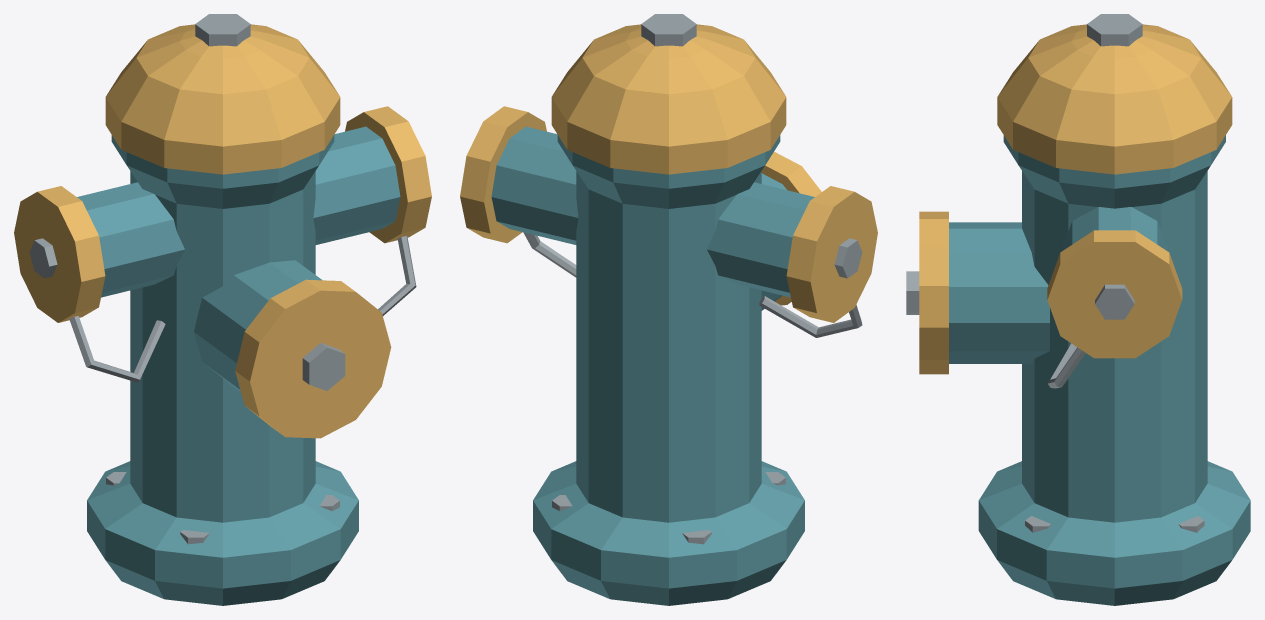
File: fire_hydrant.glb
3 views of the same model, side by side, from view 1: azimuth 30°, elevation 25°; view 2: azimuth 150°, elevation 25°; view 3: azimuth 270°, elevation 25° (orthographic).
Visible parts, largest first — view 1: hydrant_base_and_body, hydrant_faceted_crown, hydrant_front_cap, hydrant_side_cap, hydrant_side_neck.001, hydrant_side_neck, hydrant_front_neck, hydrant_side_cap.001, hydrant_front_cap_nut, hydrant_retaining_chain, hydrant_top_operating_nut, hydrant_retaining_chain.001 (+1 smaller); view 2: hydrant_base_and_body, hydrant_faceted_crown, hydrant_side_cap, hydrant_side_neck.001, hydrant_side_neck, hydrant_side_cap.001, hydrant_top_operating_nut, hydrant_front_cap, hydrant_retaining_chain, hydrant_side_cap_nut, hydrant_retaining_chain.001; view 3: hydrant_base_and_body, hydrant_faceted_crown, hydrant_front_neck, hydrant_side_cap.001, hydrant_front_cap, hydrant_side_neck.001, hydrant_top_operating_nut, hydrant_side_cap_nut.001, hydrant_retaining_chain.001, hydrant_front_cap_nut.
Part boxes in pixels (left/top/right/bottom): hydrant_base_and_body: left=87, top=135, right=358, bottom=605; hydrant_faceted_crown: left=105, top=24, right=340, bottom=174; hydrant_front_cap: left=235, top=279, right=391, bottom=438; hydrant_side_cap: left=14, top=186, right=105, bottom=322; hydrant_side_neck.001: left=313, top=126, right=400, bottom=244; hydrant_side_neck: left=77, top=182, right=184, bottom=297; hydrant_front_neck: left=194, top=260, right=322, bottom=391; hydrant_side_cap.001: left=345, top=106, right=431, bottom=243; hydrant_front_cap_nut: left=302, top=343, right=345, bottom=390; hydrant_retaining_chain: left=69, top=316, right=165, bottom=382; hydrant_top_operating_nut: left=195, top=14, right=250, bottom=46; hydrant_retaining_chain.001: left=378, top=235, right=416, bottom=315; hydrant_base_and_body: left=533, top=135, right=804, bottom=605; hydrant_faceted_crown: left=551, top=24, right=786, bottom=174; hydrant_side_cap: left=786, top=186, right=877, bottom=322; hydrant_side_neck.001: left=491, top=126, right=578, bottom=244; hydrant_side_neck: left=707, top=182, right=814, bottom=297; hydrant_side_cap.001: left=460, top=106, right=546, bottom=243; hydrant_top_operating_nut: left=641, top=14, right=696, bottom=46; hydrant_front_cap: left=761, top=151, right=821, bottom=305; hydrant_retaining_chain: left=759, top=296, right=862, bottom=337; hydrant_side_cap_nut: left=834, top=238, right=862, bottom=278; hydrant_retaining_chain.001: left=523, top=232, right=576, bottom=277; hydrant_base_and_body: left=978, top=135, right=1250, bottom=605; hydrant_faceted_crown: left=997, top=24, right=1232, bottom=174; hydrant_front_neck: left=949, top=222, right=1049, bottom=363; hydrant_side_cap.001: left=1047, top=230, right=1182, bottom=358; hydrant_front_cap: left=919, top=211, right=948, bottom=374; hydrant_side_neck.001: left=1062, top=207, right=1167, bottom=250; hydrant_top_operating_nut: left=1087, top=14, right=1142, bottom=46; hydrant_side_cap_nut.001: left=1095, top=284, right=1134, bottom=319; hydrant_retaining_chain.001: left=1047, top=343, right=1085, bottom=388; hydrant_front_cap_nut: left=906, top=271, right=919, bottom=314.
Bounding box in the file's own units: 0.686 × 0.95 × 0.5575.
